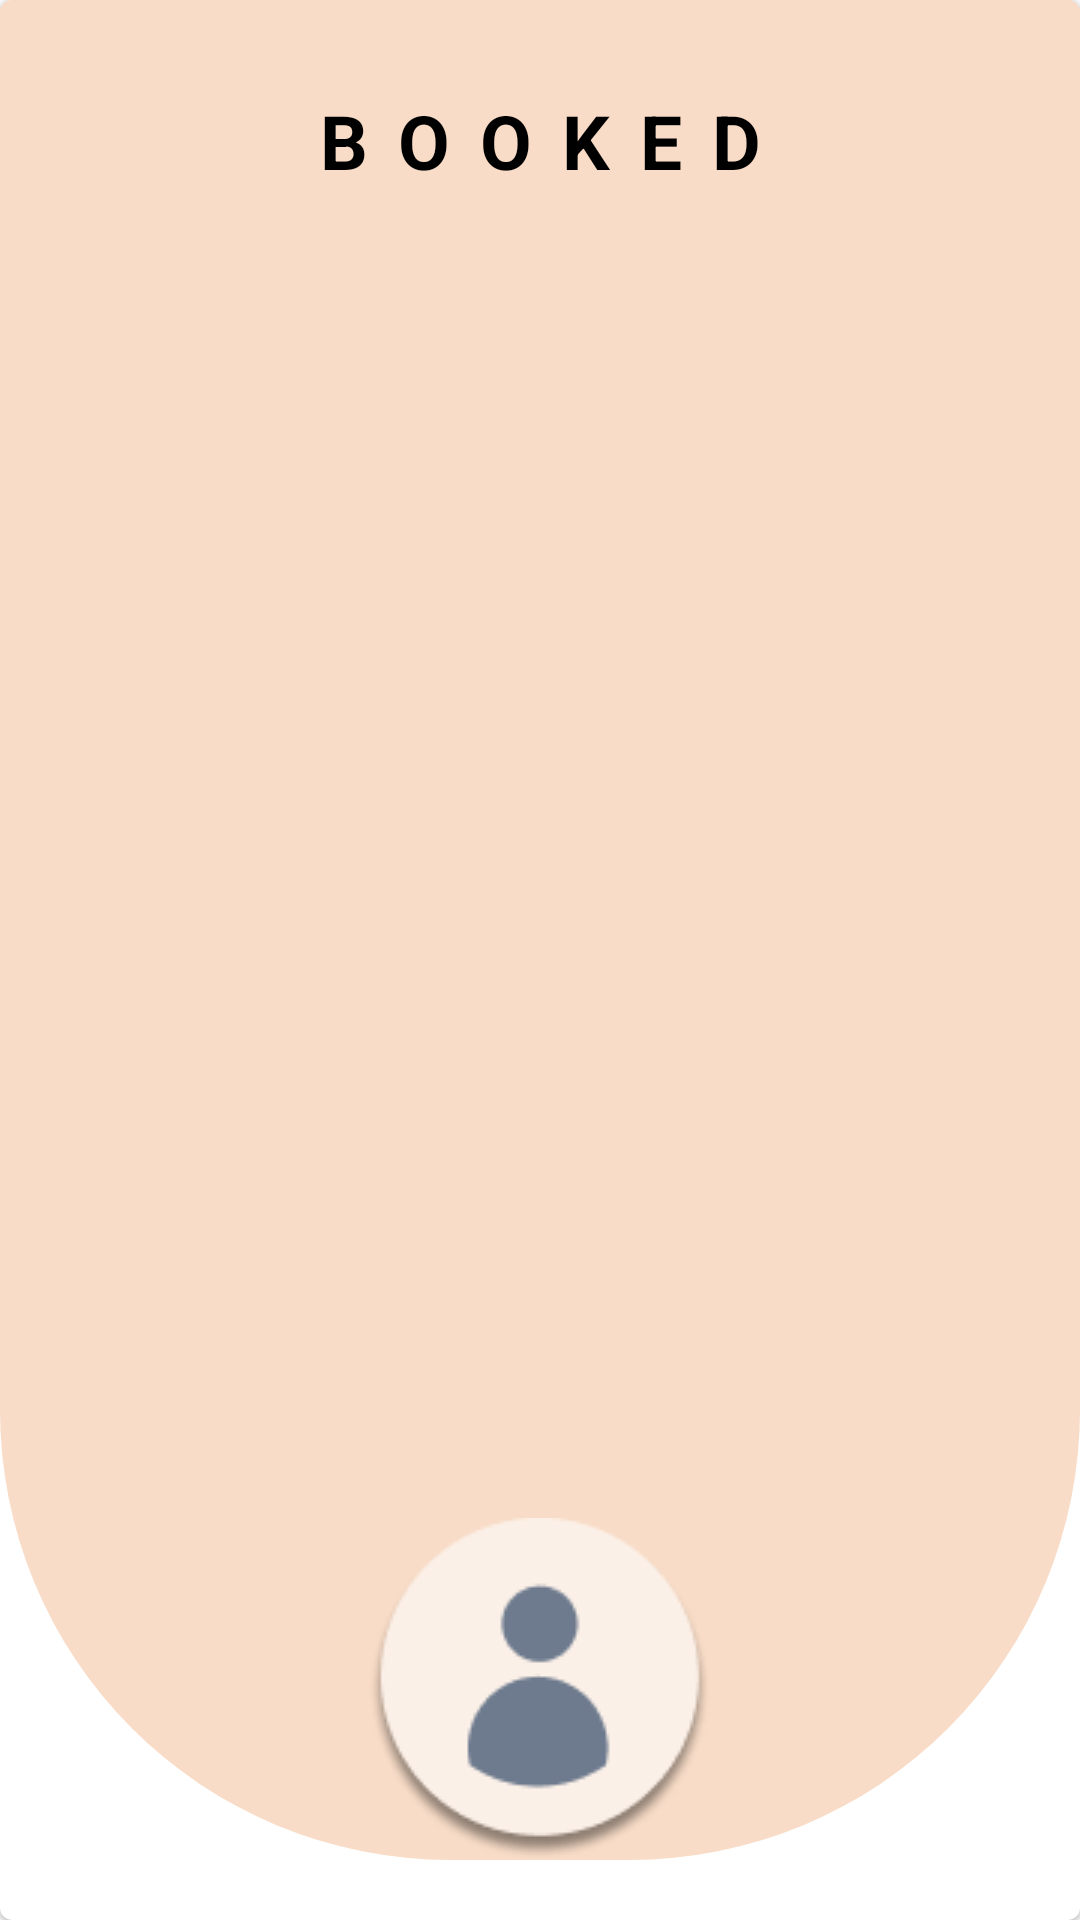

Icon click points for this 1080 × 1920 phone screenshot, format (x=x, y=y):
profile: (x=539, y=1685)
